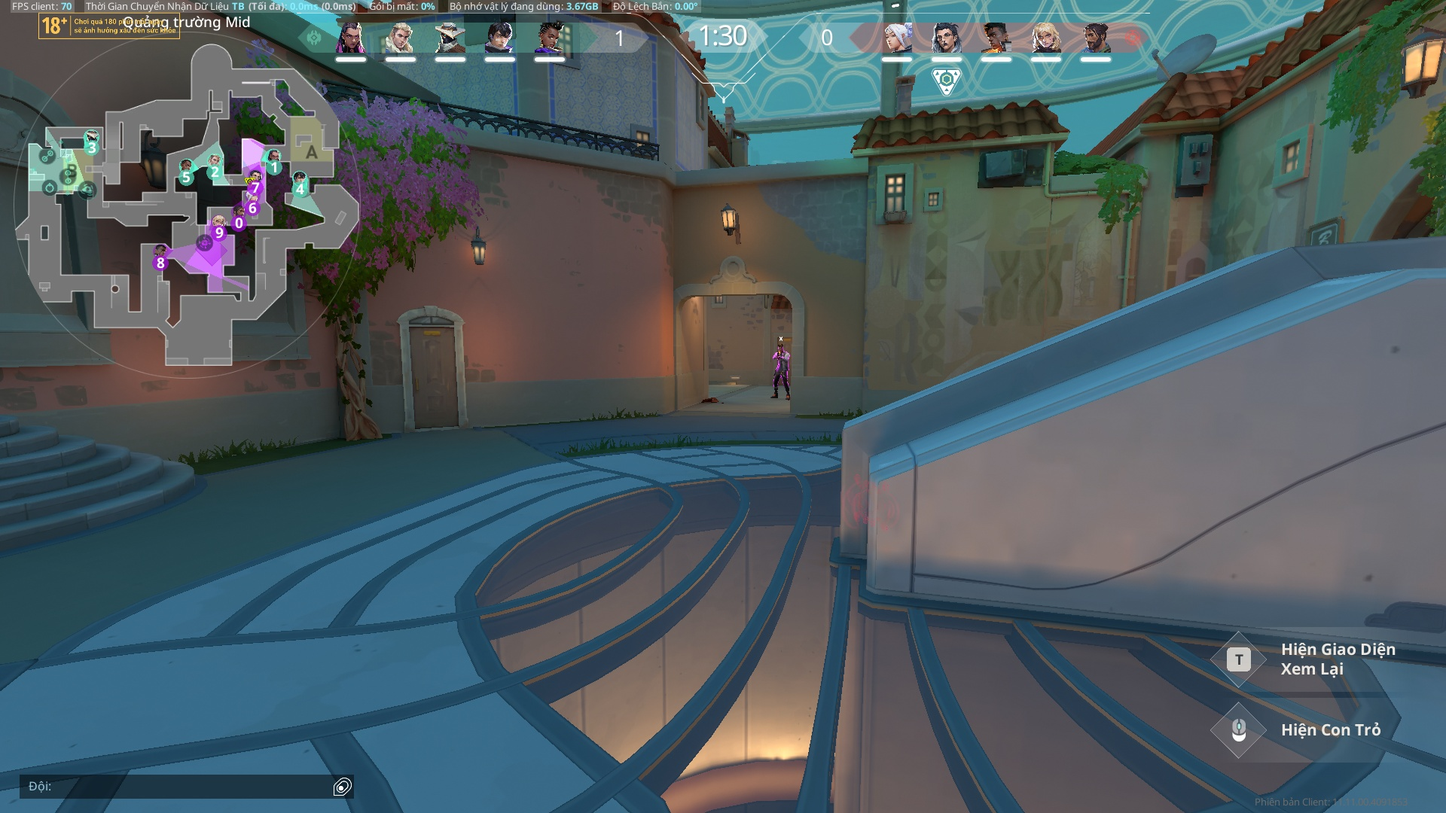body: (773, 349, 791, 368)
head: (776, 342, 783, 352)
